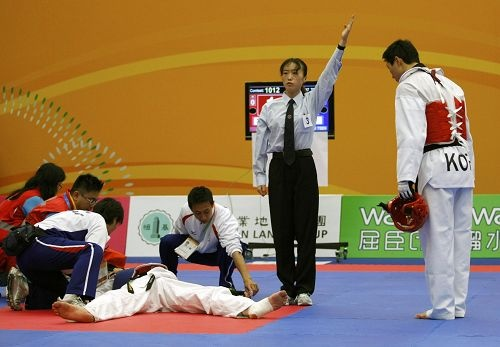falling: (57, 254, 285, 323)
